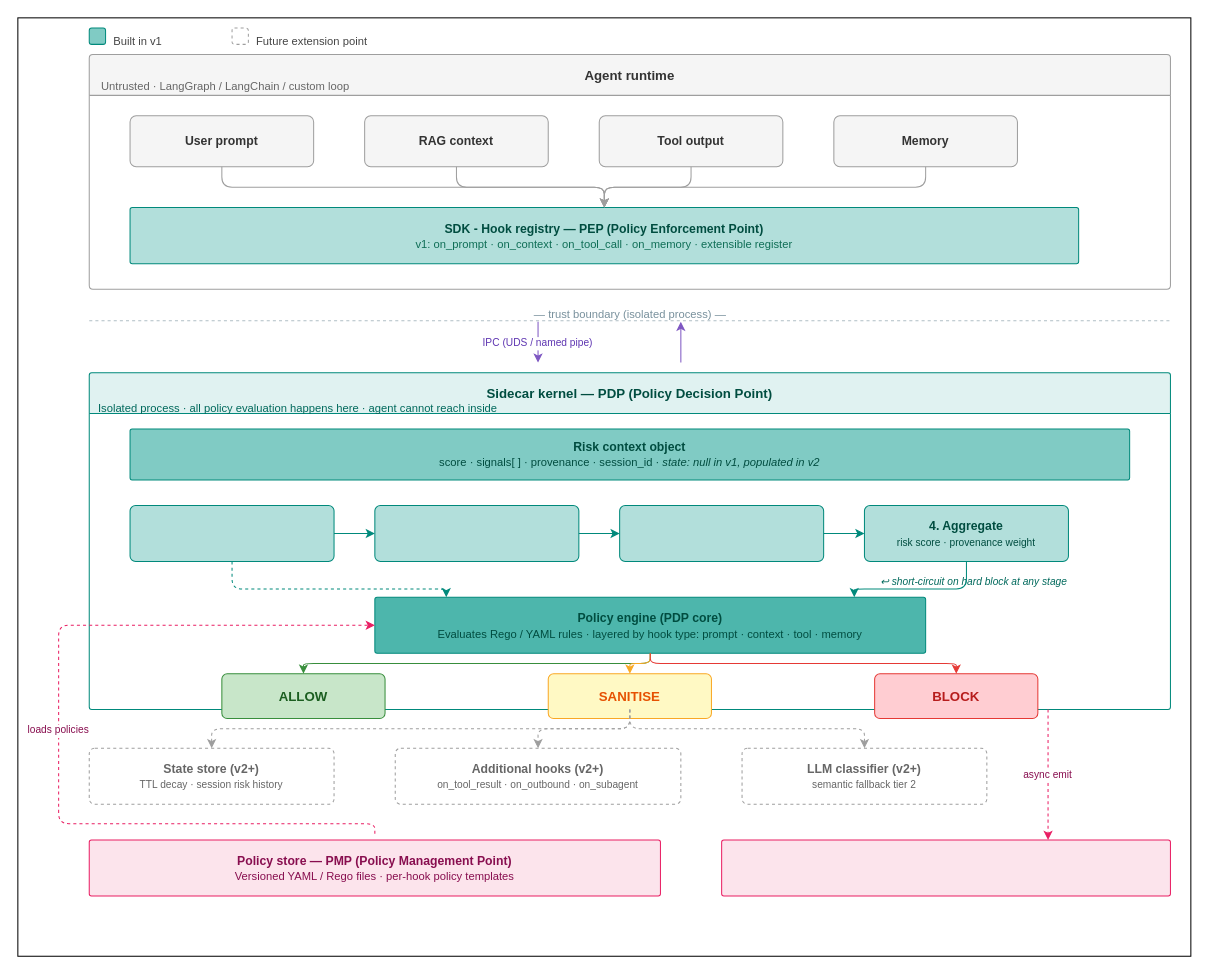
The diagram is 1209 pixels wide and 974 high, and some of its shapes have lost their labels. Each missing label, with the centre of its shape:
"1. Validate HMAC · nonce · schema" goes at point (231, 533).
"2. Normalise decode · NFKC · clean" goes at point (476, 533).
"3. Scan lexical · semantic fallback" goes at point (721, 533).
"Observability OpenTelemetry spans · async audit trail · per-decision trace" goes at point (945, 867).
